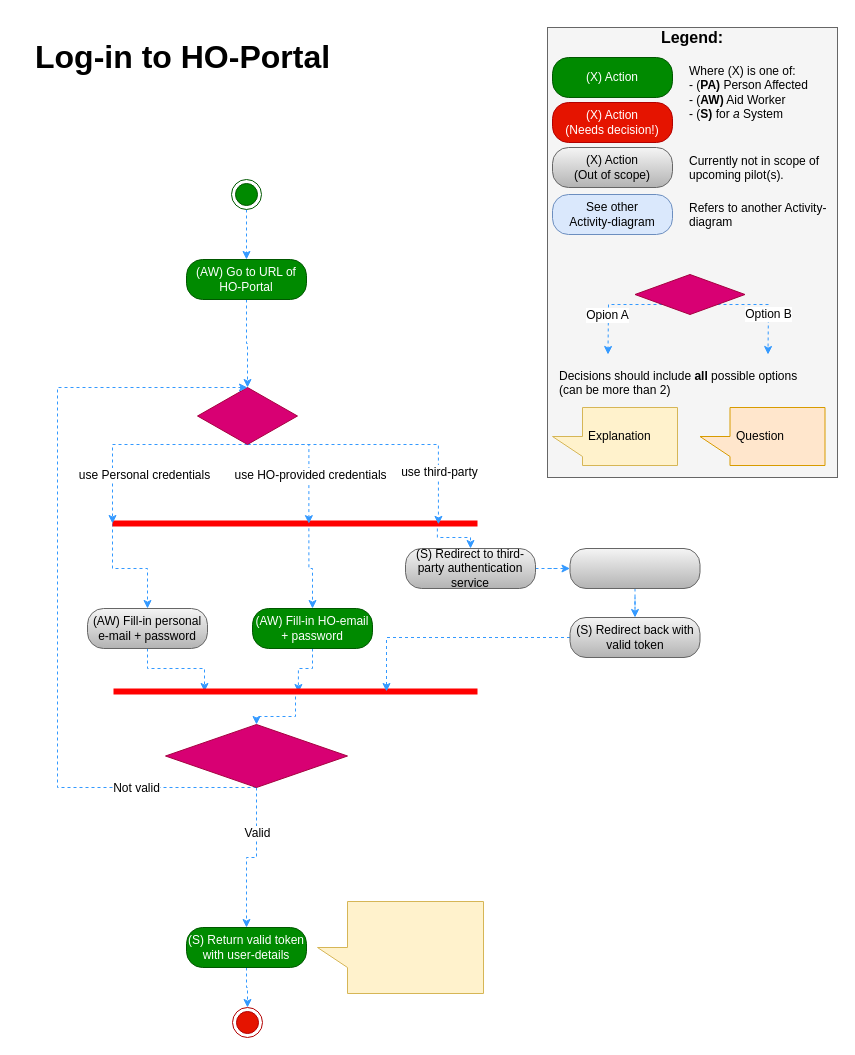
This 855x1055 diagram has some shape labels left out. Here are the shapes that lost their labels. From the top down, the box of each, then its label:
(634, 274, 745, 314): (X) Decision
(196, 386, 298, 444): (AW) Choose method
(569, 548, 700, 588): (AW) Prove credentials in third-party system
(164, 724, 348, 788): (S) Check validity of credentials/token
(316, 900, 484, 994): User-details should at least include: - token - role (admin/aidworker)
